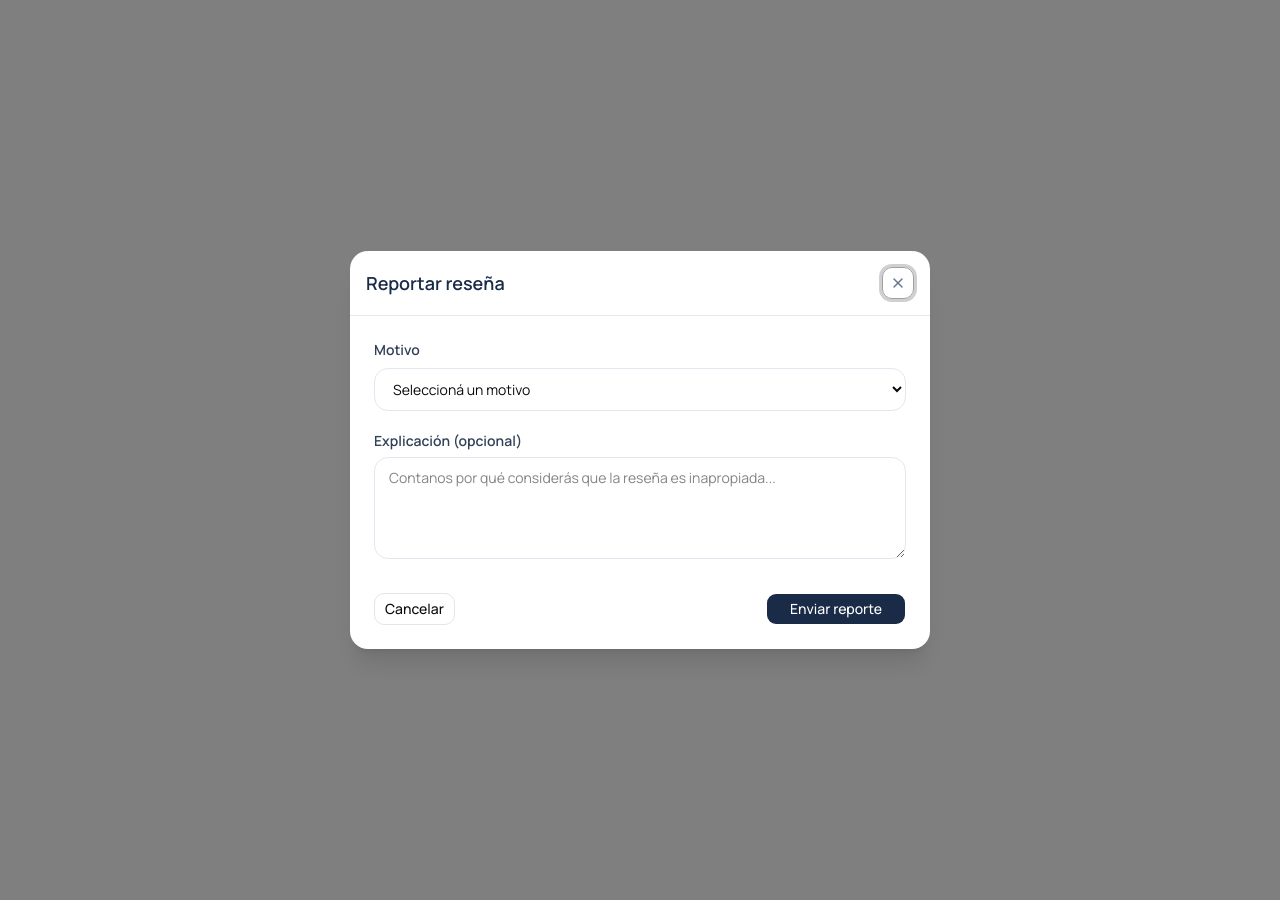
Test: ReportReviewModal › should show an already-reported notice without showing submission success
The width and height of the screenshot is (1280, 900).
Select "Spam o publicidad" in the dropdown labelled "Motivo" at (640, 390), box left=374, top=368, right=906, bottom=411
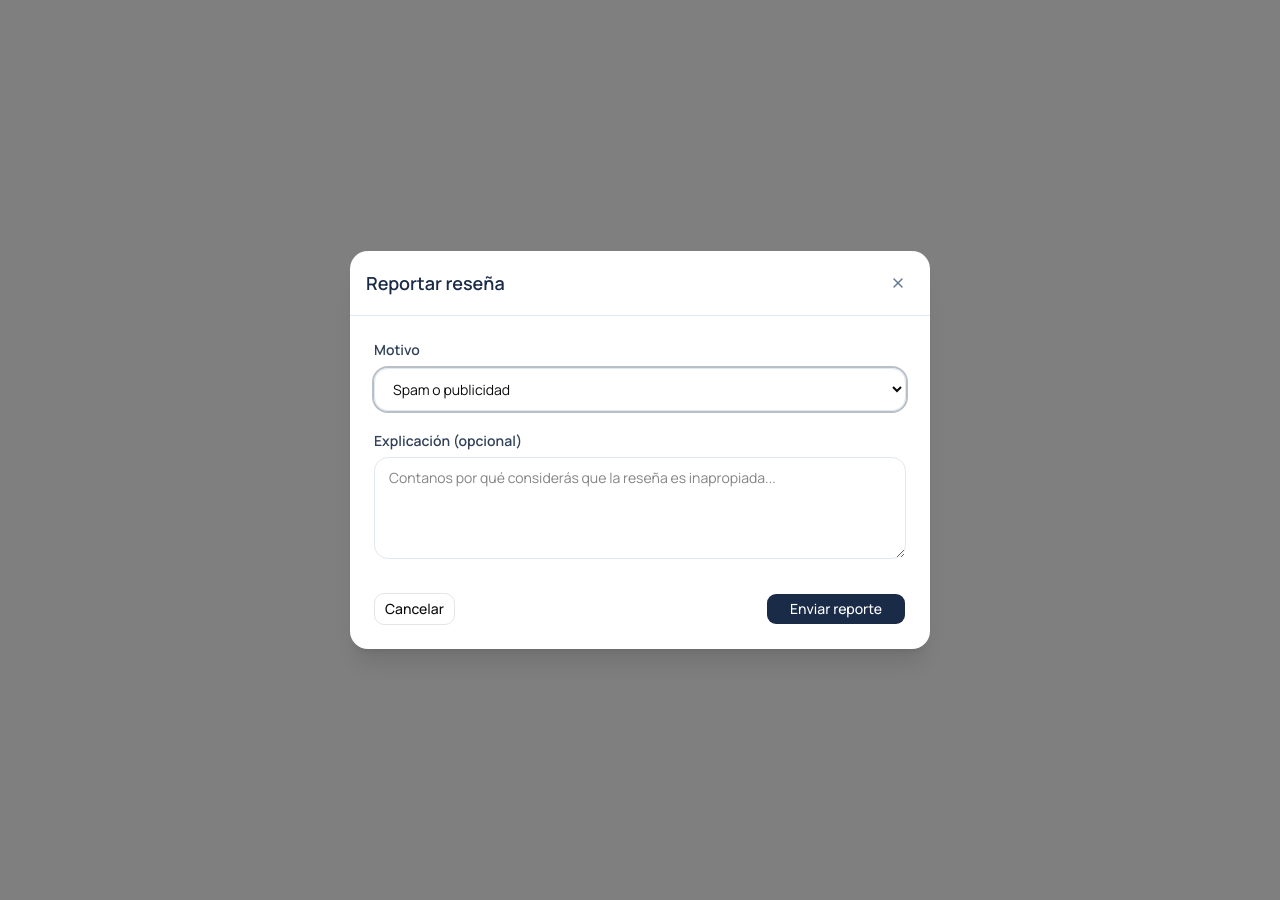
Click the button "Enviar reporte" at (836, 609), box left=766, top=593, right=906, bottom=625
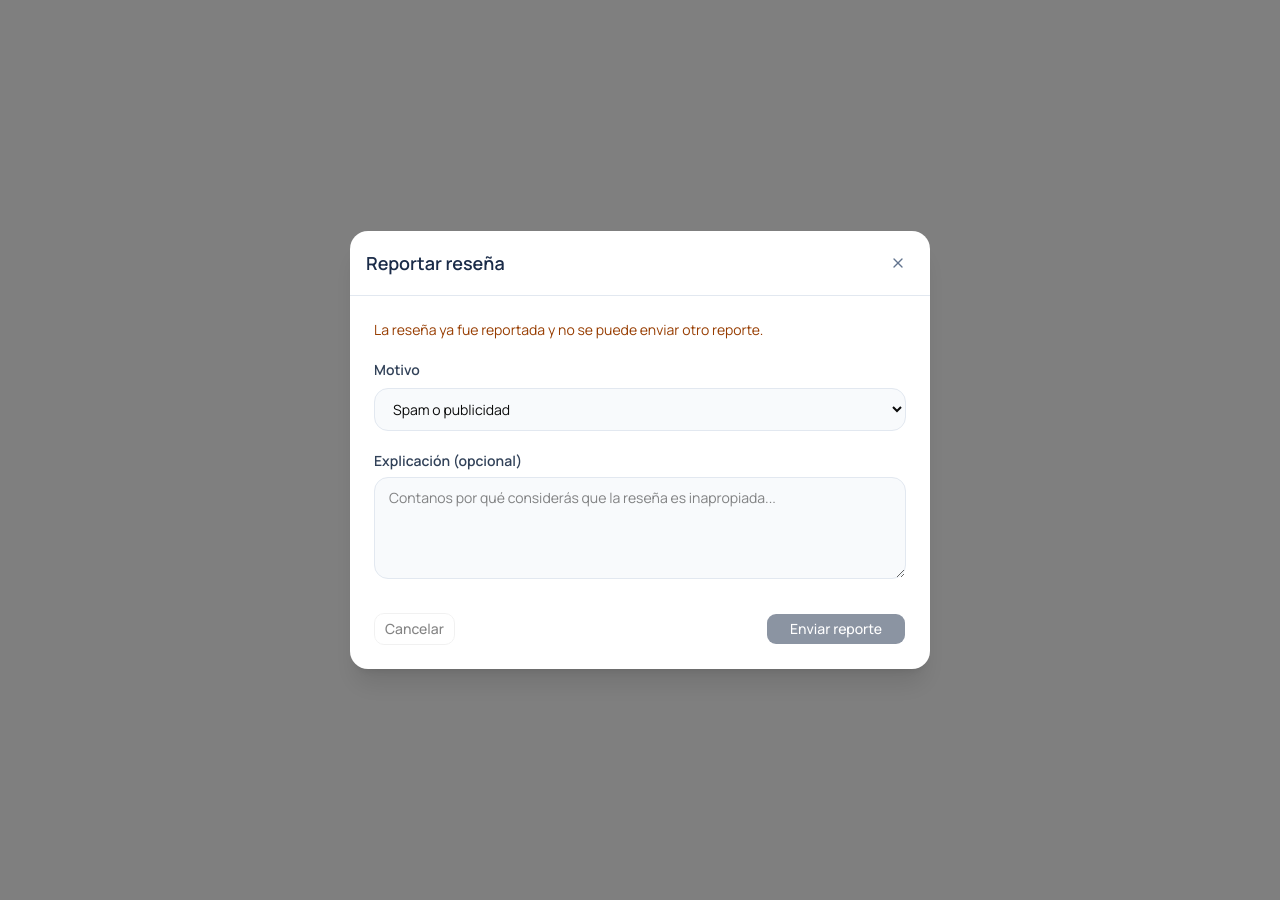
Result: the message reads "La reseña ya fue reportada y no se puede enviar otro reporte." at left=374, top=320, right=763, bottom=339
